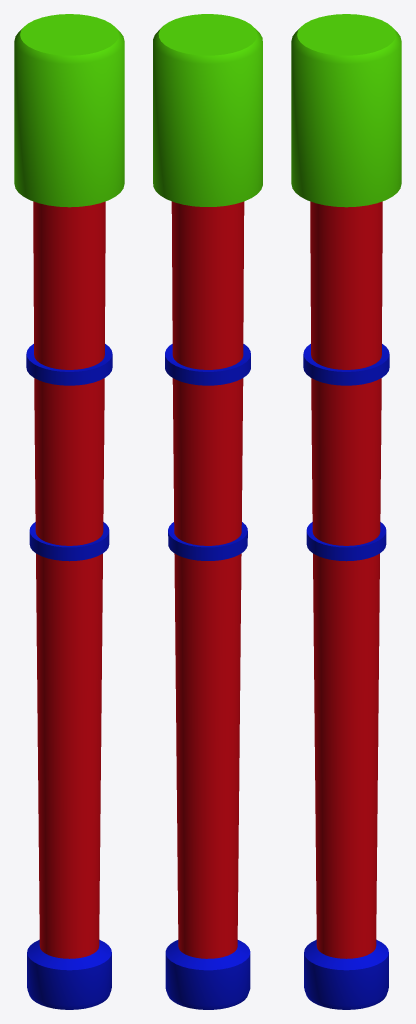
Rendered from torch.fbx.
3 renders of one model, left to right at view 1: azimuth 90°, elevation 25°; view 2: azimuth 210°, elevation 25°; view 3: azimuth 270°, elevation 25°, orthographic.
Parts seen in each view (by area): view 1: Cylinder; view 2: Cylinder; view 3: Cylinder.
Part boxes in pixels (x1,y1,x2,y2): Cylinder: [14, 14, 124, 1009]; Cylinder: [153, 14, 262, 1009]; Cylinder: [291, 14, 401, 1009].
Size of the model in its own units: 3.71 by 35.64 by 3.71.
